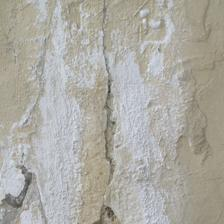Crack: (96, 11, 128, 180)
